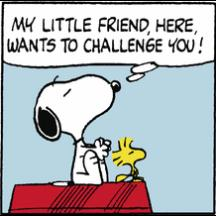snoopy: (31, 73, 122, 187)
